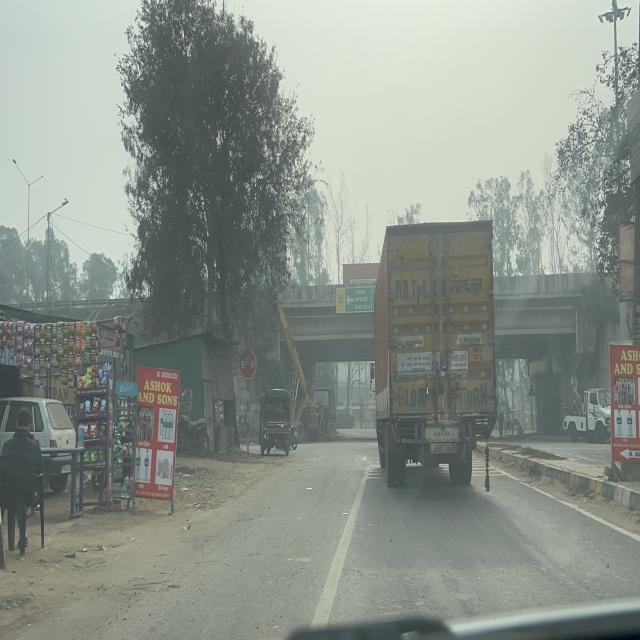GENERAL: (336, 286, 374, 314)
STOP: (239, 348, 257, 381)
